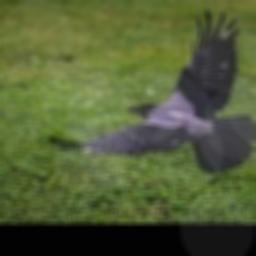Crow: (49, 8, 256, 174)
